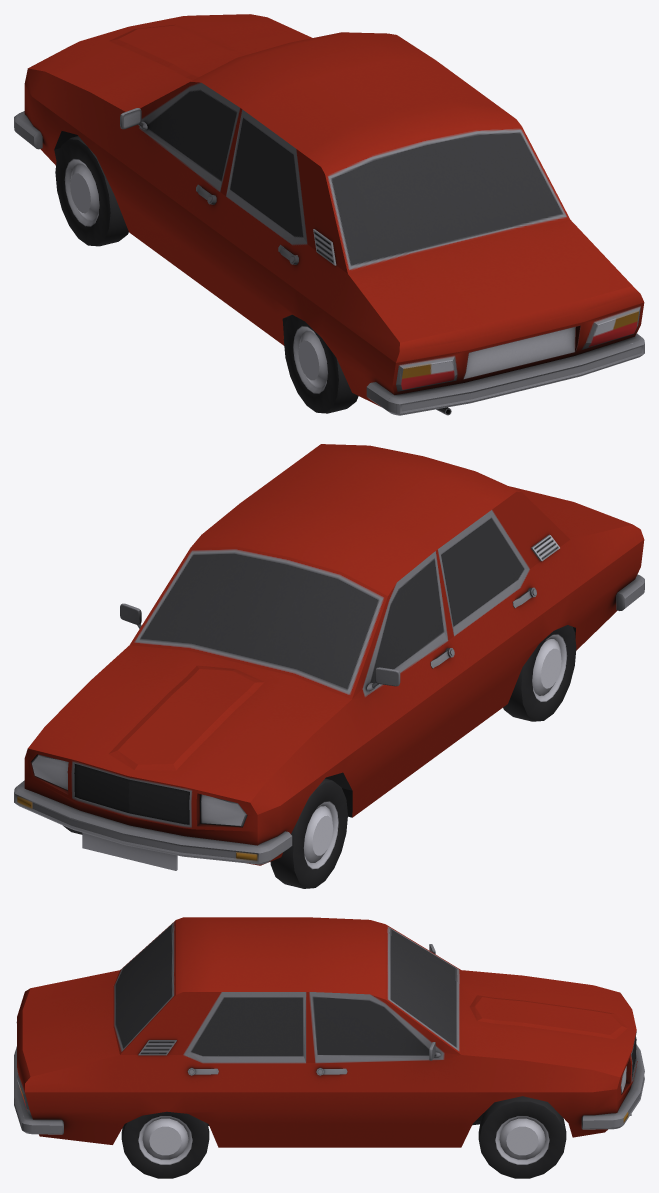
The model's file is Car05.FBX.
The picture shows the model from 3 angles, top to bottom: view 1: azimuth 30°, elevation 25°; view 2: azimuth 150°, elevation 25°; view 3: azimuth 270°, elevation 25°; orthographic projection. The views are drawn at different scales.
Visible parts, largest first — view 1: Body, FLWheel, RLWheel; view 2: Body, FLWheel, RLWheel; view 3: Body, FRWheel, RRWheel.
Boxes of the visible parts, x1=… form: Body: x1=14, y1=14, x2=644, y2=415; FLWheel: x1=55, y1=136, x2=128, y2=246; RLWheel: x1=283, y1=315, x2=358, y2=413; Body: x1=14, y1=444, x2=644, y2=870; FLWheel: x1=270, y1=778, x2=347, y2=888; RLWheel: x1=503, y1=625, x2=576, y2=721; Body: x1=14, y1=917, x2=644, y2=1147; FRWheel: x1=478, y1=1096, x2=566, y2=1178; RRWheel: x1=121, y1=1111, x2=209, y2=1178.
Bounding box in the file's own units: 1.73 × 1.45 × 4.33.
2 materials, 2 textured.
